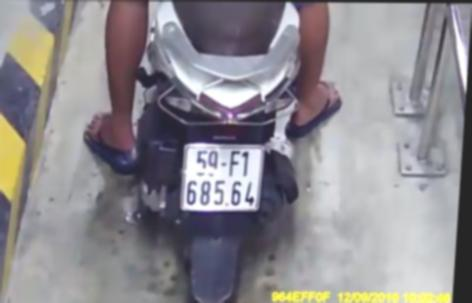License_Plate: (171, 140, 271, 220)
